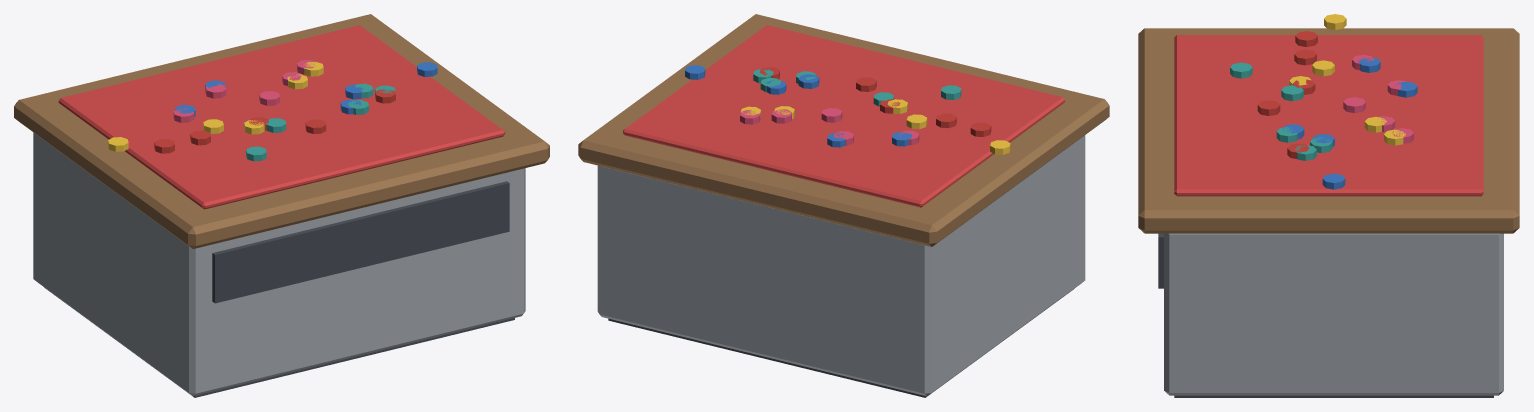
Rendered from thumbtacks_p0_4.glb.
3 views of the same model, side by side, from view 1: azimuth 30°, elevation 25°; view 2: azimuth 150°, elevation 25°; view 3: azimuth 270°, elevation 25° (orthographic). The views are drawn at different scales.
Visible parts, largest first — view 1: thumbtacks_p0_4_mesh_Desk, thumbtacks_p0_4_mesh; view 2: thumbtacks_p0_4_mesh_Desk, thumbtacks_p0_4_mesh; view 3: thumbtacks_p0_4_mesh_Desk, thumbtacks_p0_4_mesh.
Part boxes in pixels (x1,y1,x2,y2): thumbtacks_p0_4_mesh_Desk: [14, 14, 549, 397]; thumbtacks_p0_4_mesh: [58, 25, 505, 209]; thumbtacks_p0_4_mesh_Desk: [578, 14, 1109, 397]; thumbtacks_p0_4_mesh: [623, 25, 1064, 207]; thumbtacks_p0_4_mesh_Desk: [1138, 28, 1519, 397]; thumbtacks_p0_4_mesh: [1174, 14, 1483, 196].
Size of the model in its own units: 0.86 by 0.457 by 0.74.
